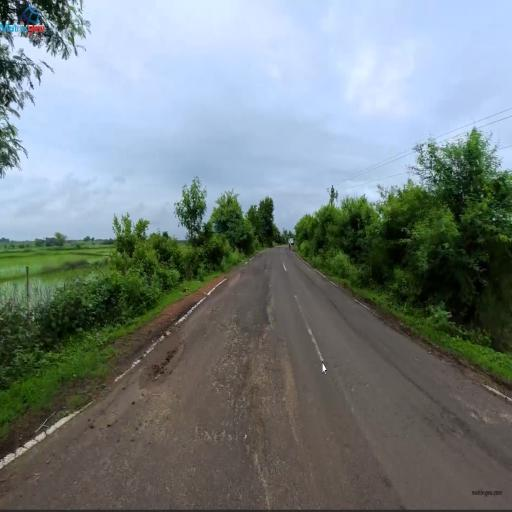ravelling: (231, 318, 316, 438)
